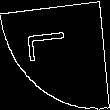L_E: (30, 37, 80, 73)
